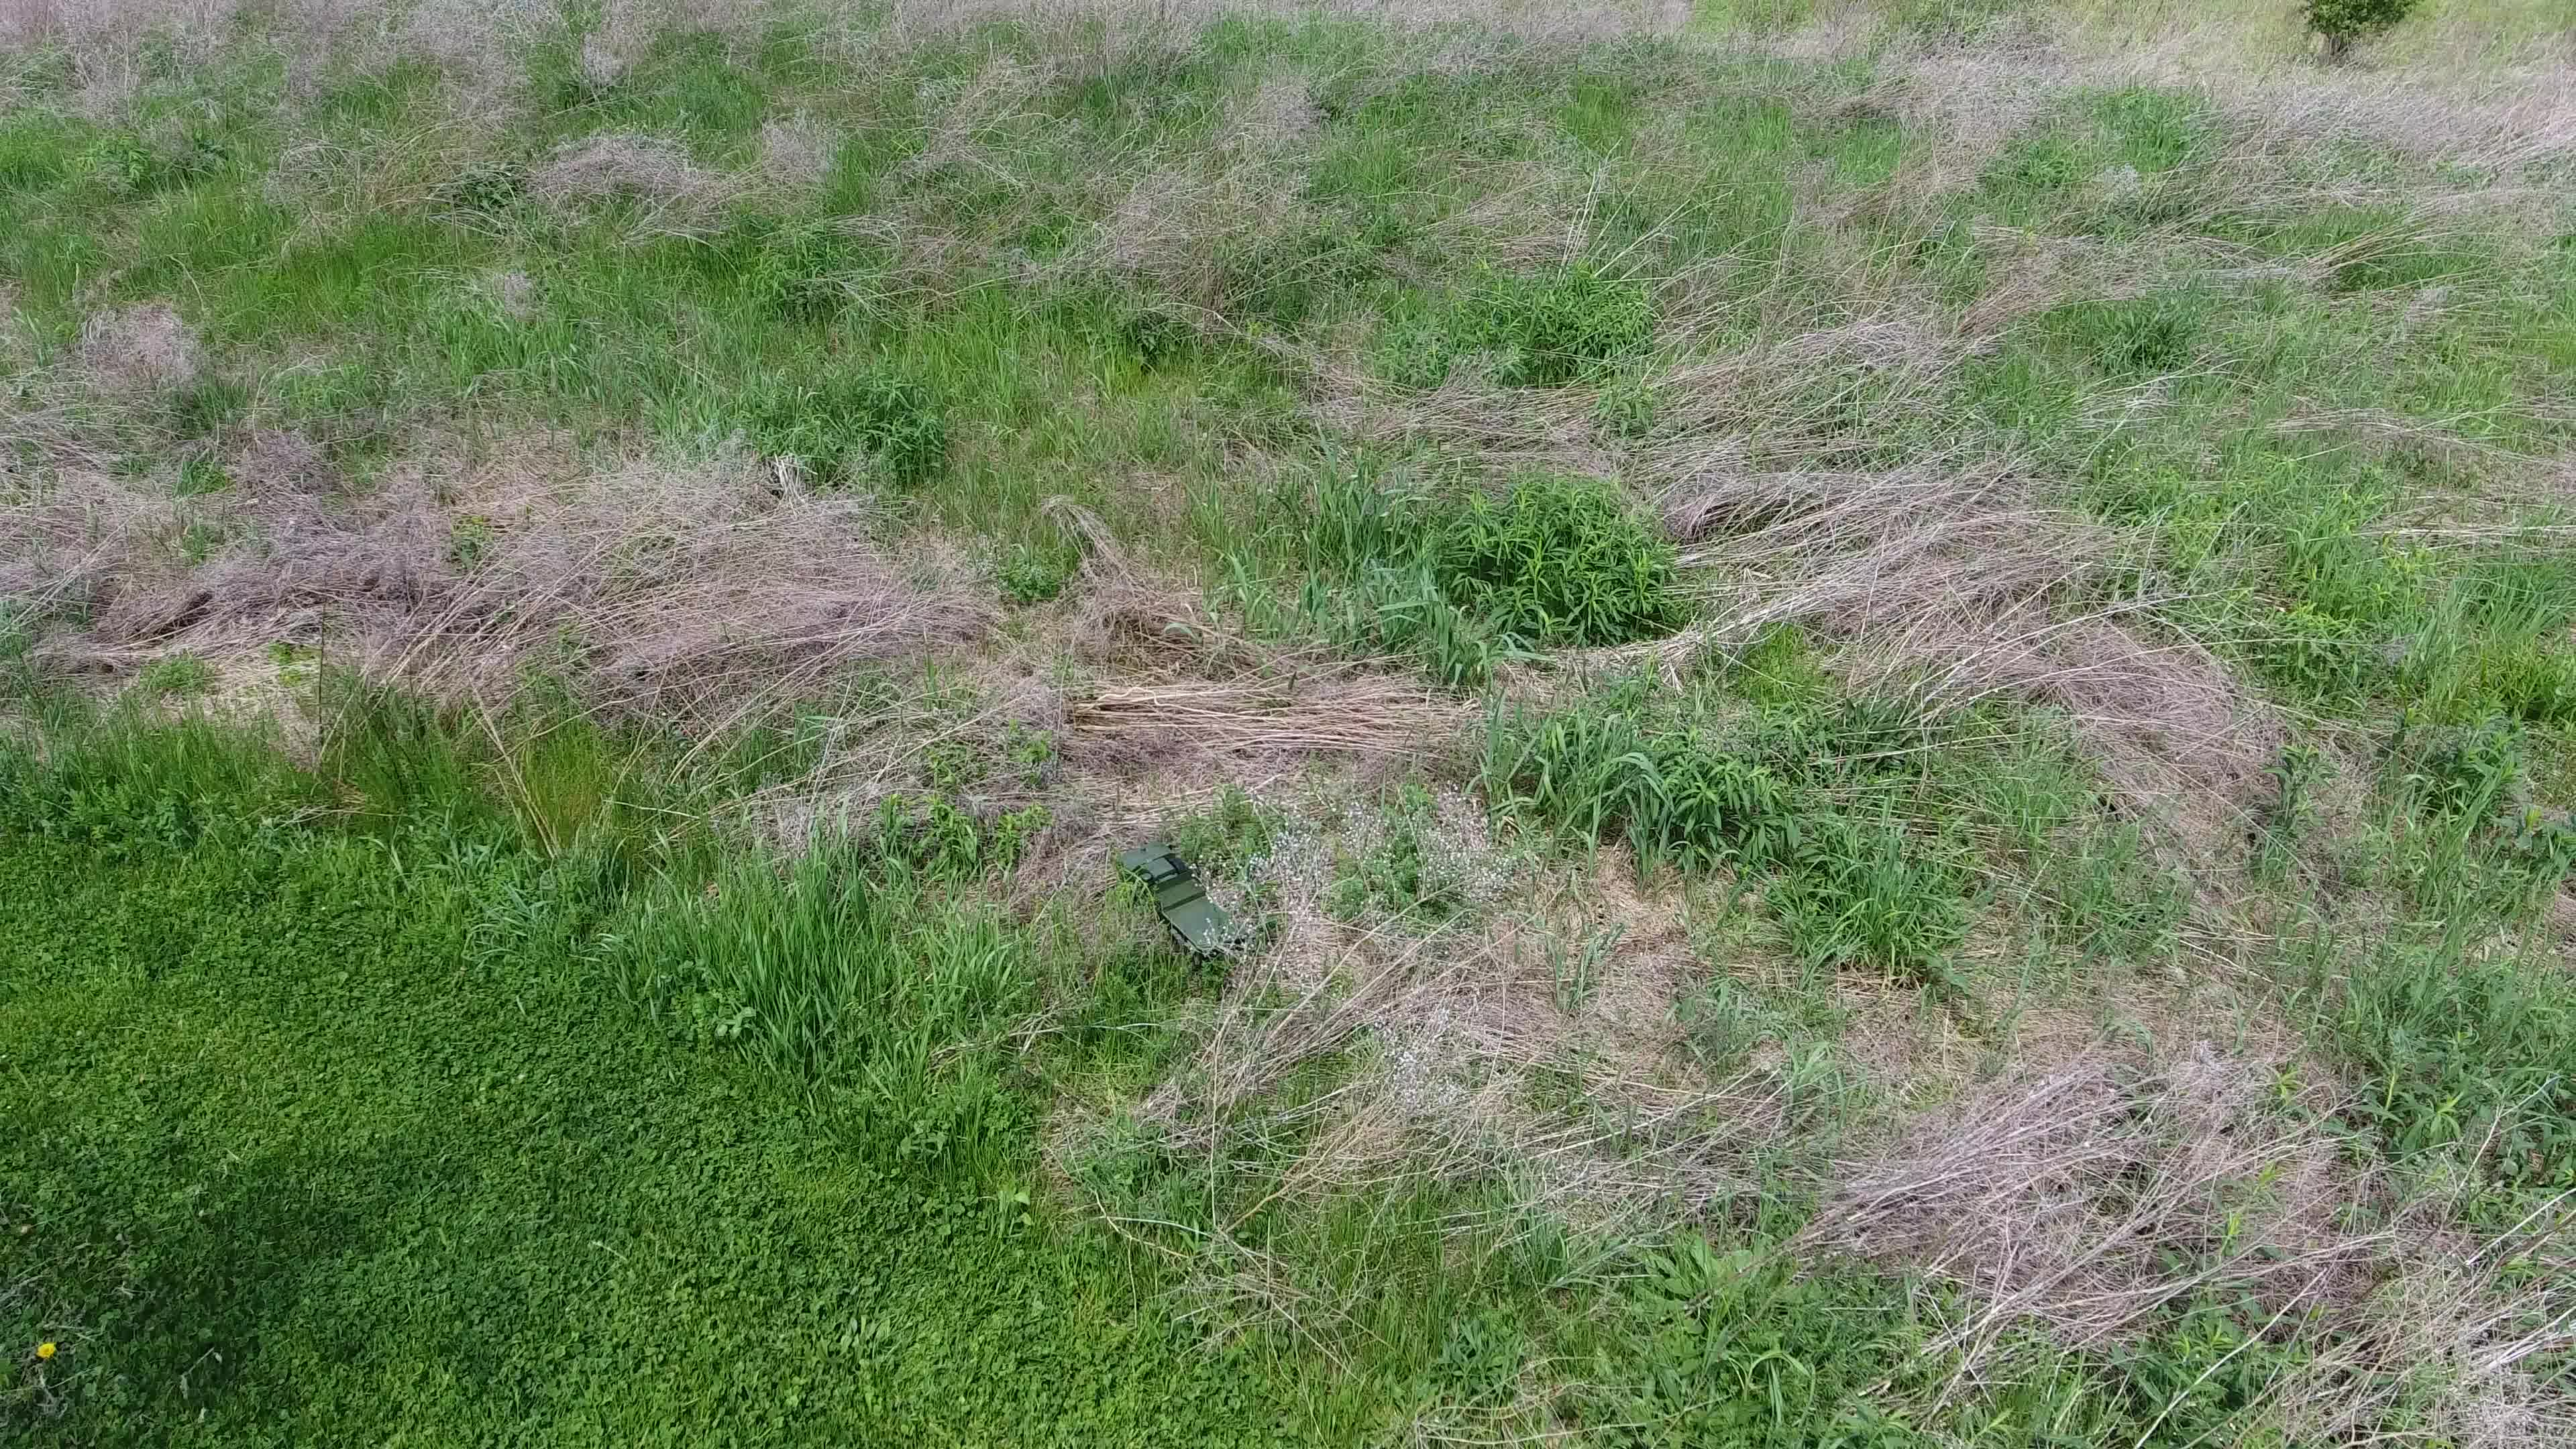transporter9: (1109, 842, 1244, 966)
